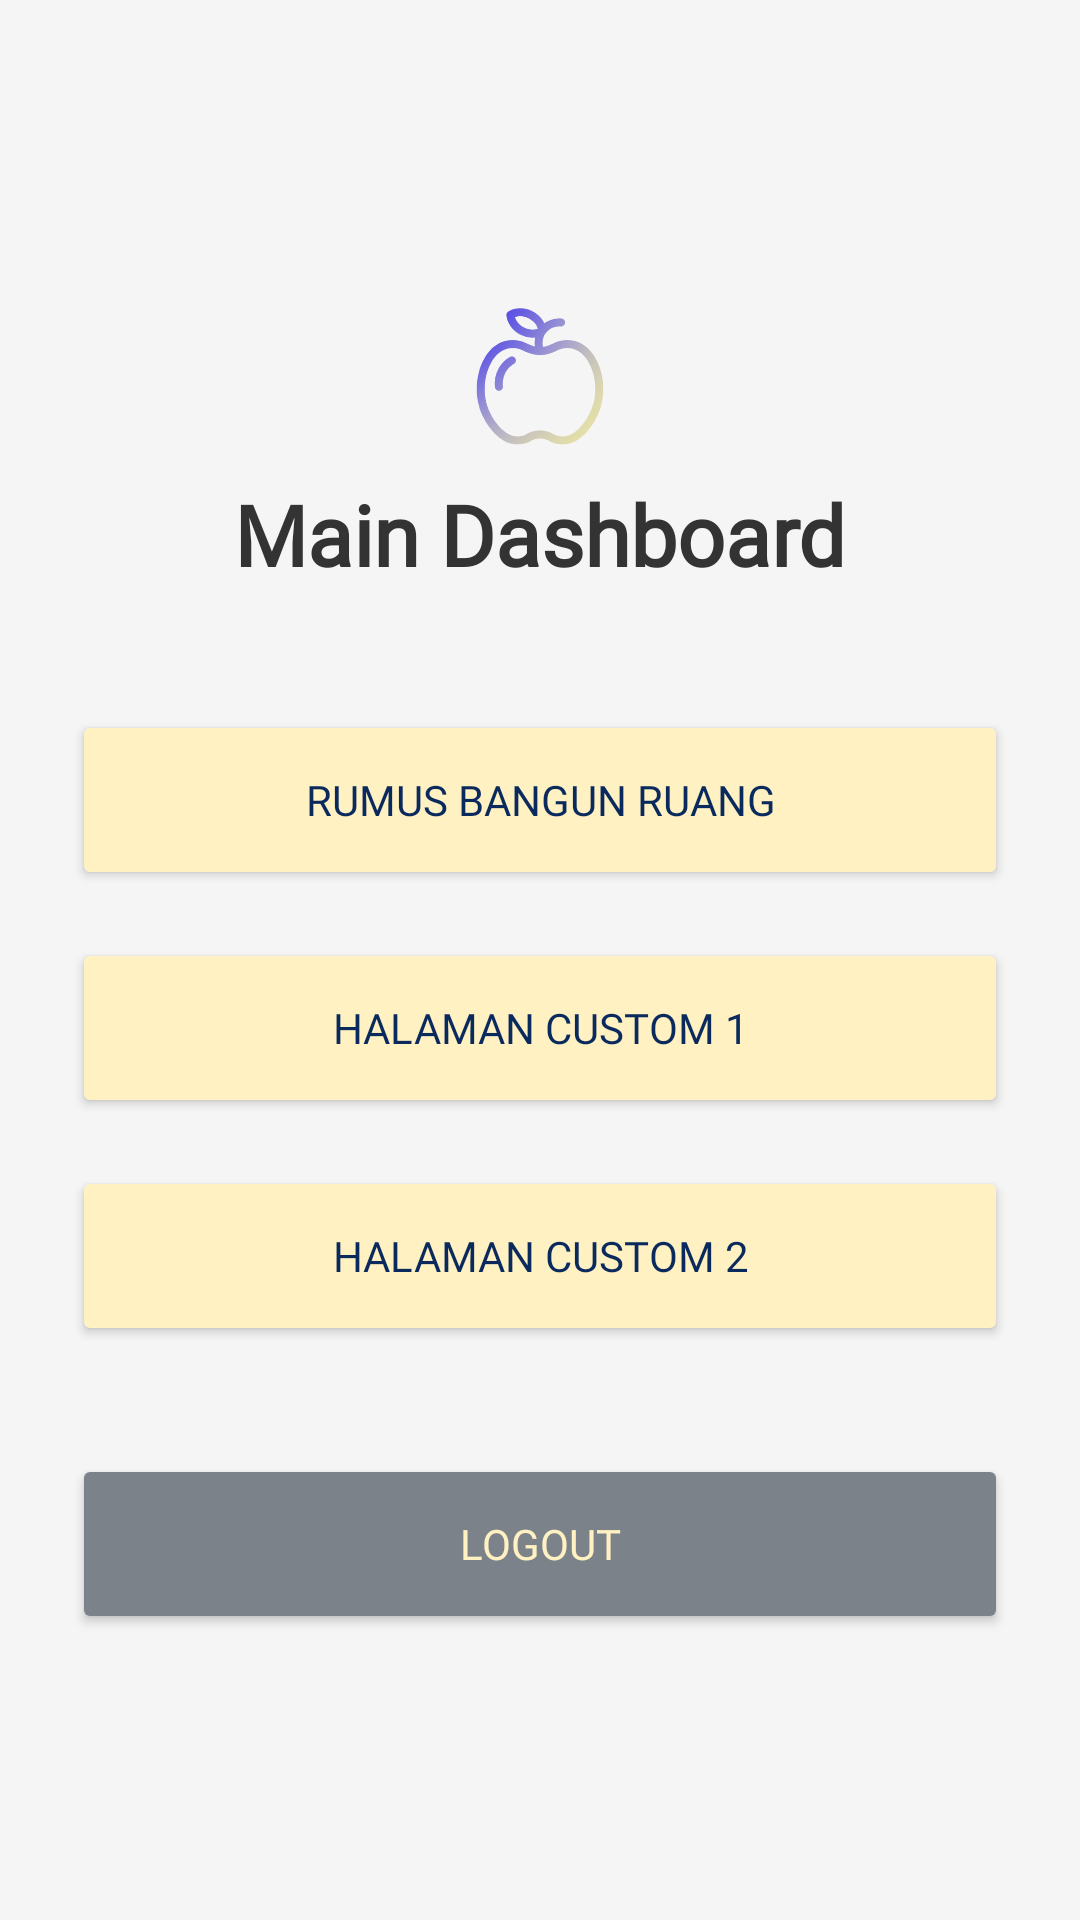

Icons on this 1080 x 1920 Android screen, each with the point to tap as (x,y):
apple: (539,376)
